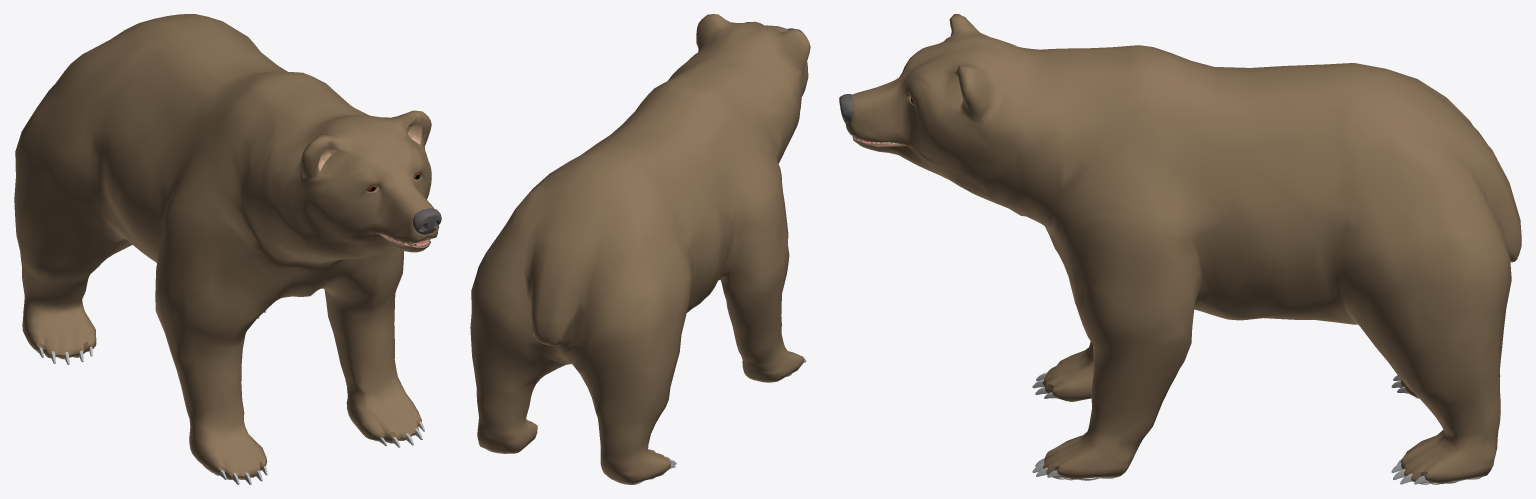
The model's file is bear.fbx.
The picture shows the model from 3 angles, left to right: view 1: azimuth 30°, elevation 25°; view 2: azimuth 150°, elevation 25°; view 3: azimuth 270°, elevation 25°; orthographic projection. The views are drawn at different scales.
Visible parts, largest first — view 1: B1Figure_2; view 2: B1Figure_2; view 3: B1Figure_2.
Part boxes in pixels (bbox=[...]): B1Figure_2: bbox=[14, 14, 441, 484]; B1Figure_2: bbox=[470, 14, 810, 484]; B1Figure_2: bbox=[839, 14, 1521, 484].
Size of the model in its own units: 17.45 by 26.47 by 41.56.
